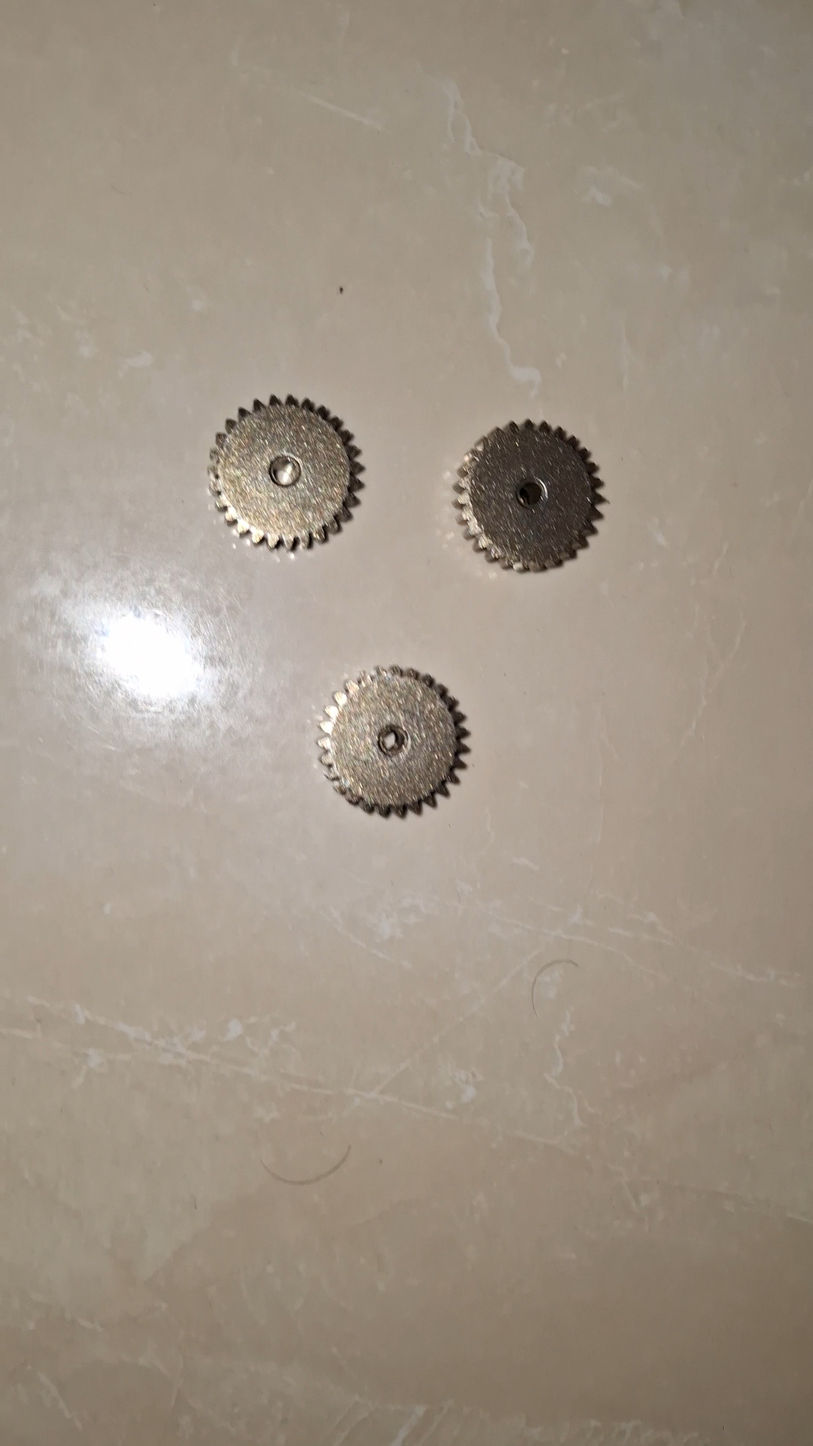spur gear: (209, 396, 361, 550), (320, 666, 467, 816), (456, 420, 601, 571)
